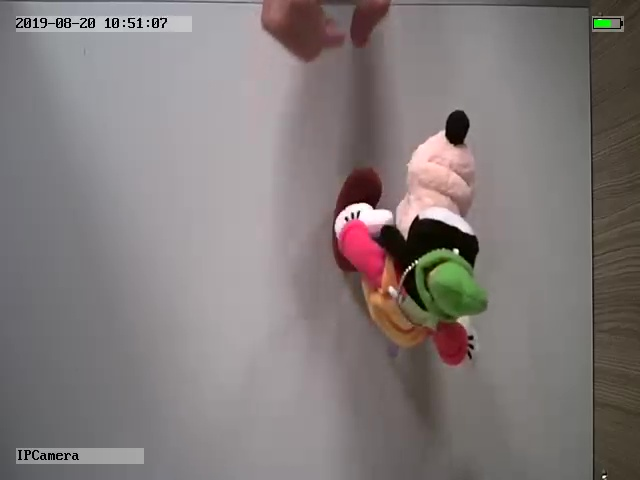goofy: (332, 108, 491, 369)
